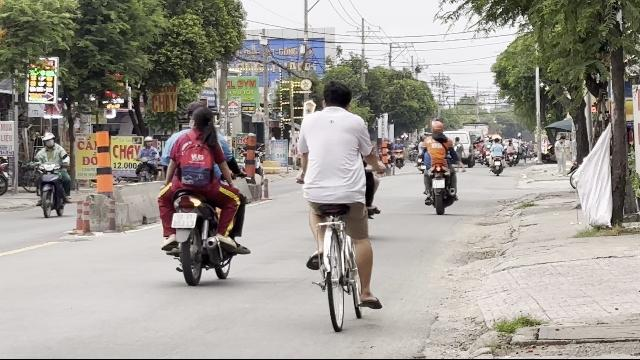licenseplate: (172, 212, 196, 228)
motorcyclist: (154, 94, 250, 286)
nohelmet: (190, 106, 214, 130)
